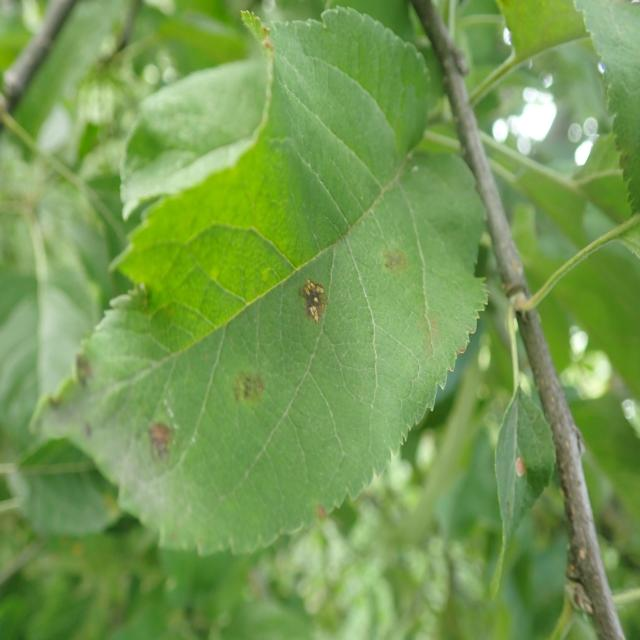scab: (88, 103, 504, 560)
